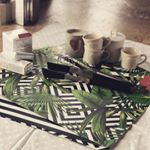cups: (118, 45, 149, 71), (80, 48, 114, 68), (82, 30, 113, 51)
